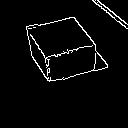cube: (21, 10, 100, 97)
